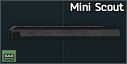M14 Mini Scout Mount system: (0, 0, 127, 64)
